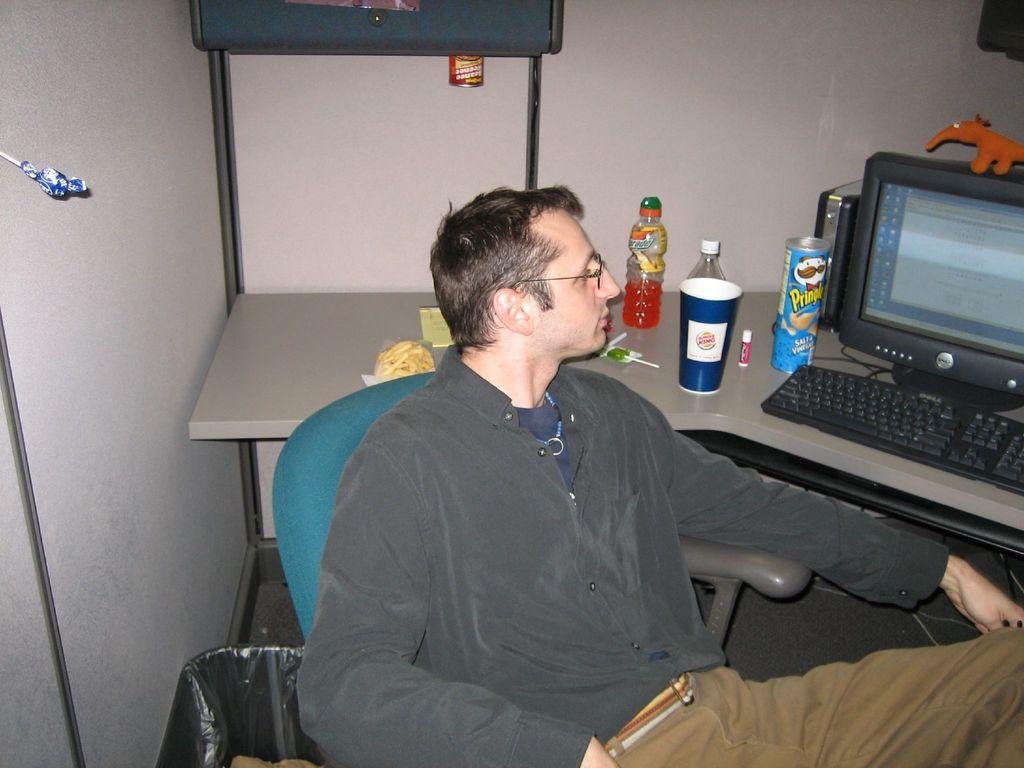Computer-keyboard: (760, 362, 1023, 499)
